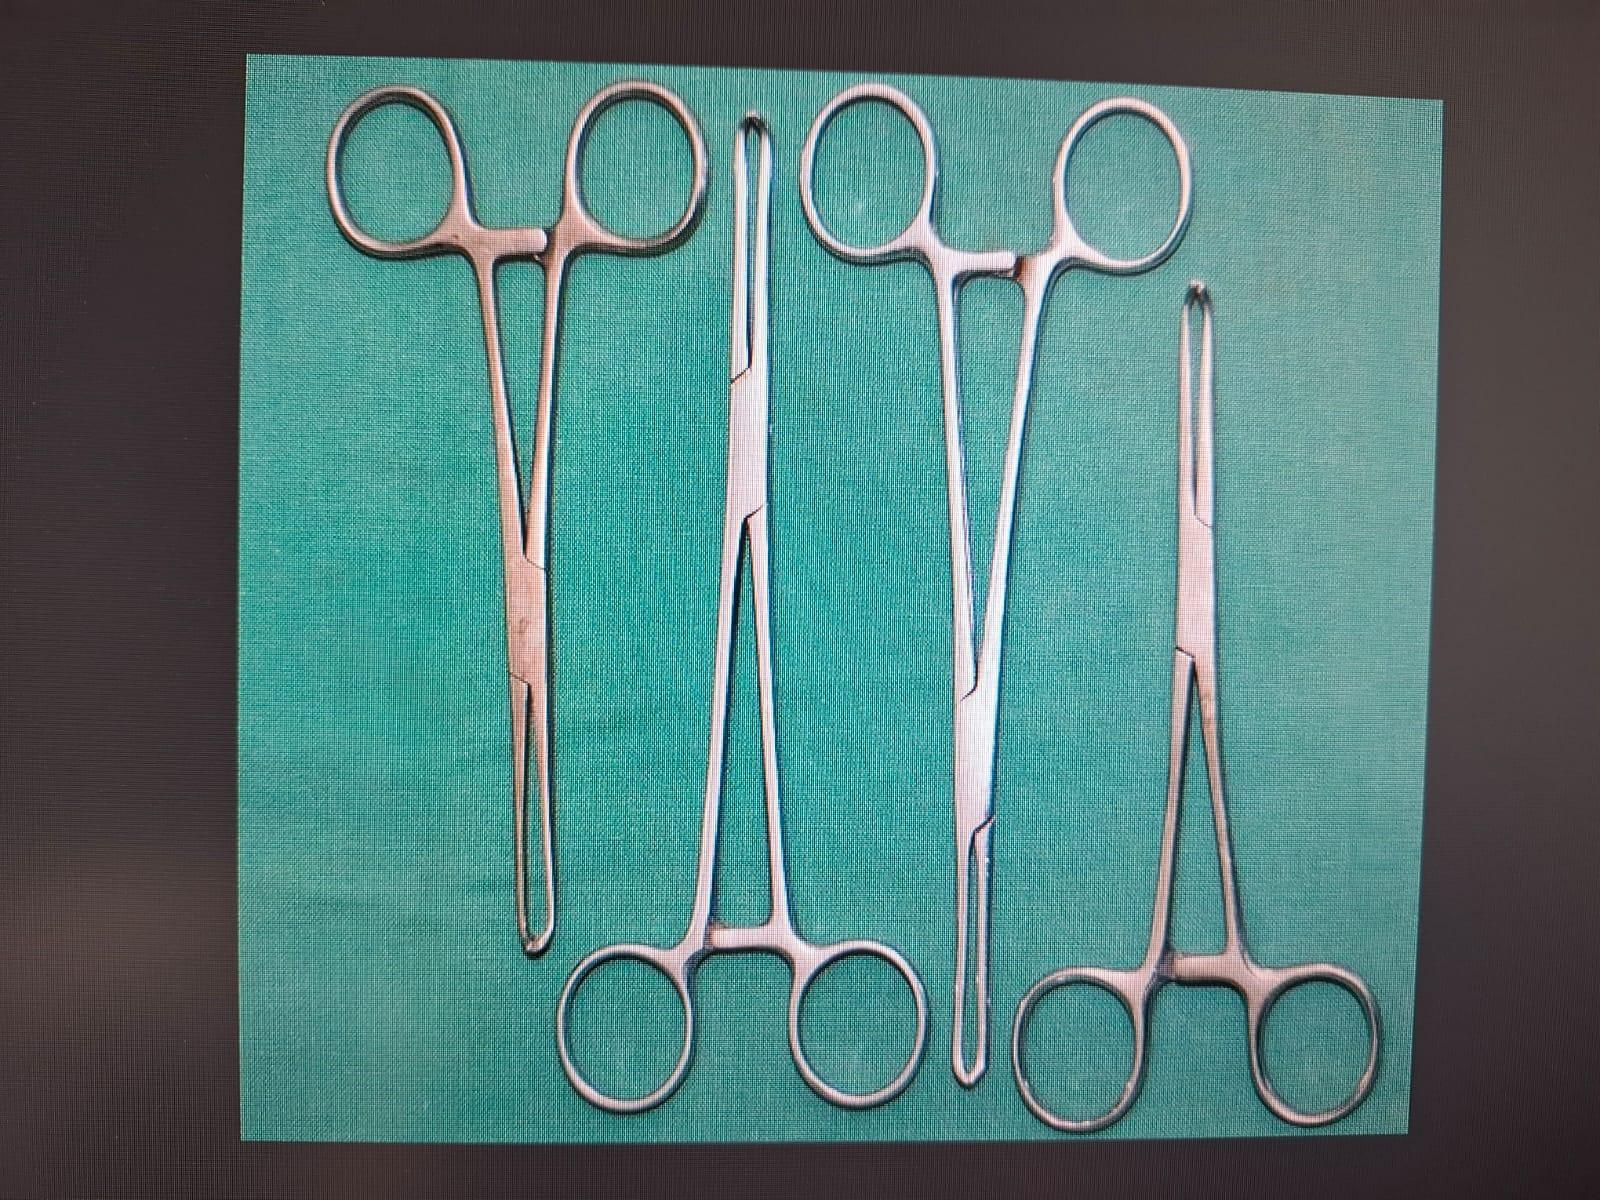Allis Forceps: (796, 72, 1202, 1090), (546, 96, 939, 1129), (317, 78, 726, 958), (1000, 266, 1400, 1138)
